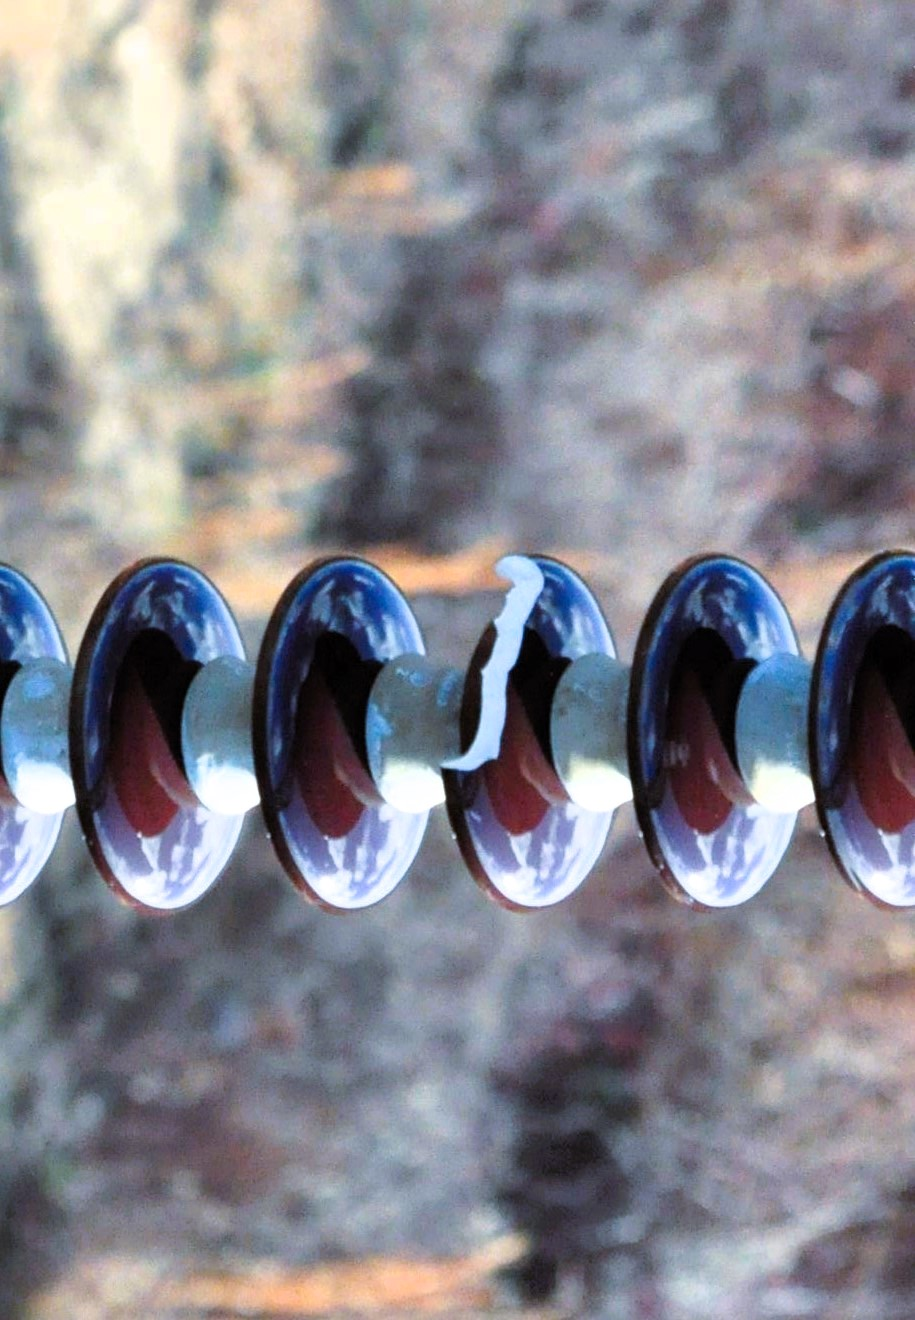insulator breakage: (436, 530, 612, 921)
